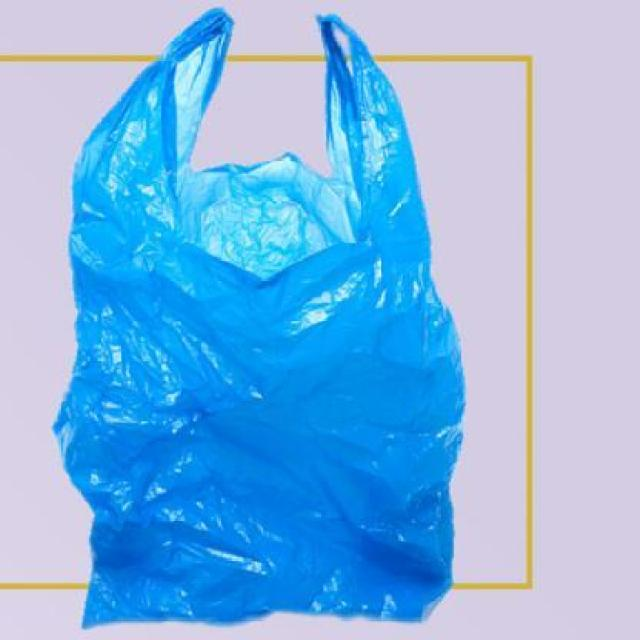plastic bag: (32, 2, 486, 609)
